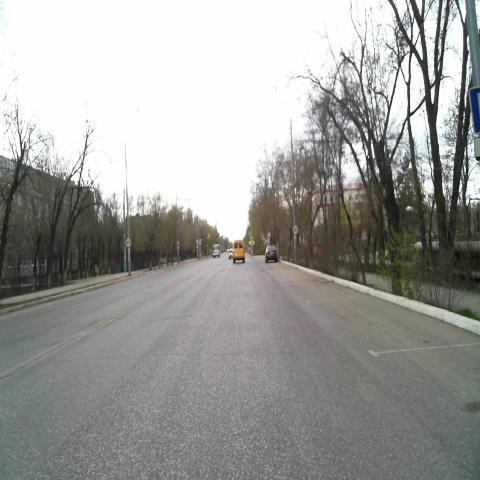3_24: (126, 237, 132, 247), (293, 224, 298, 234)
